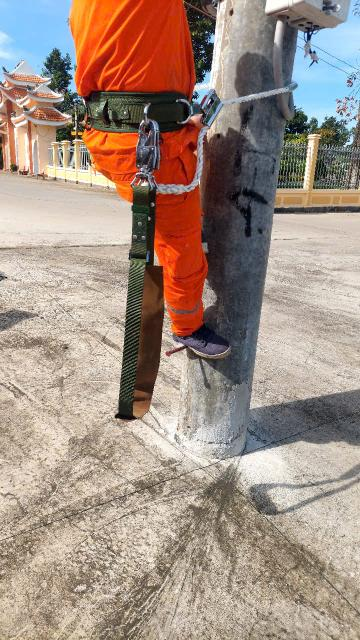harness: (60, 85, 202, 134)
shoes: (163, 320, 242, 367)
